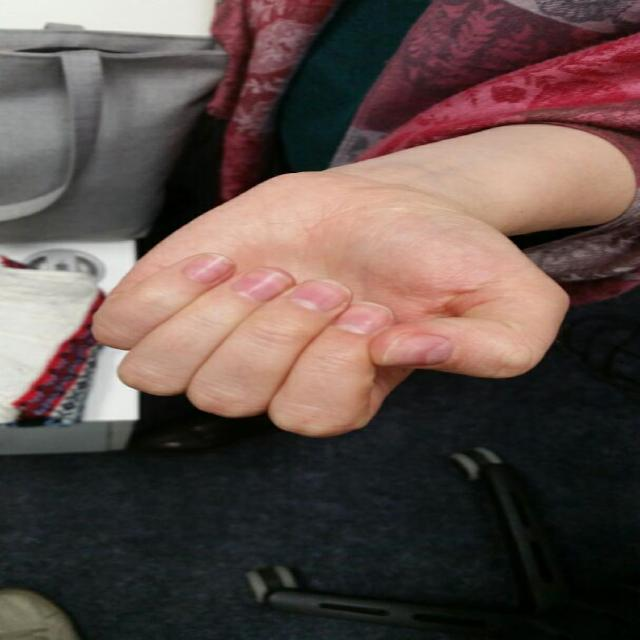Nail: (382, 333, 453, 366), (289, 278, 352, 312), (231, 268, 292, 302), (336, 301, 391, 334), (184, 253, 235, 283)
